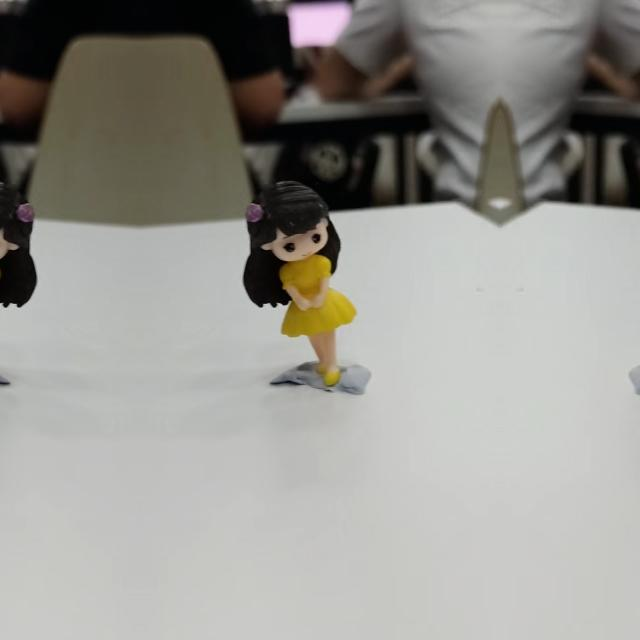woman head: (242, 168, 336, 264), (0, 168, 38, 264)
